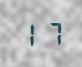one: (19, 20, 40, 47)
seven: (41, 19, 62, 46)
